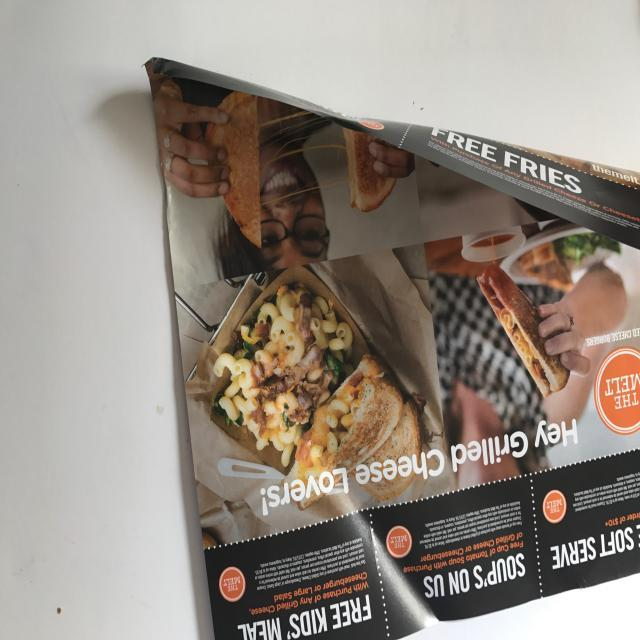paper: (143, 52, 640, 640)
